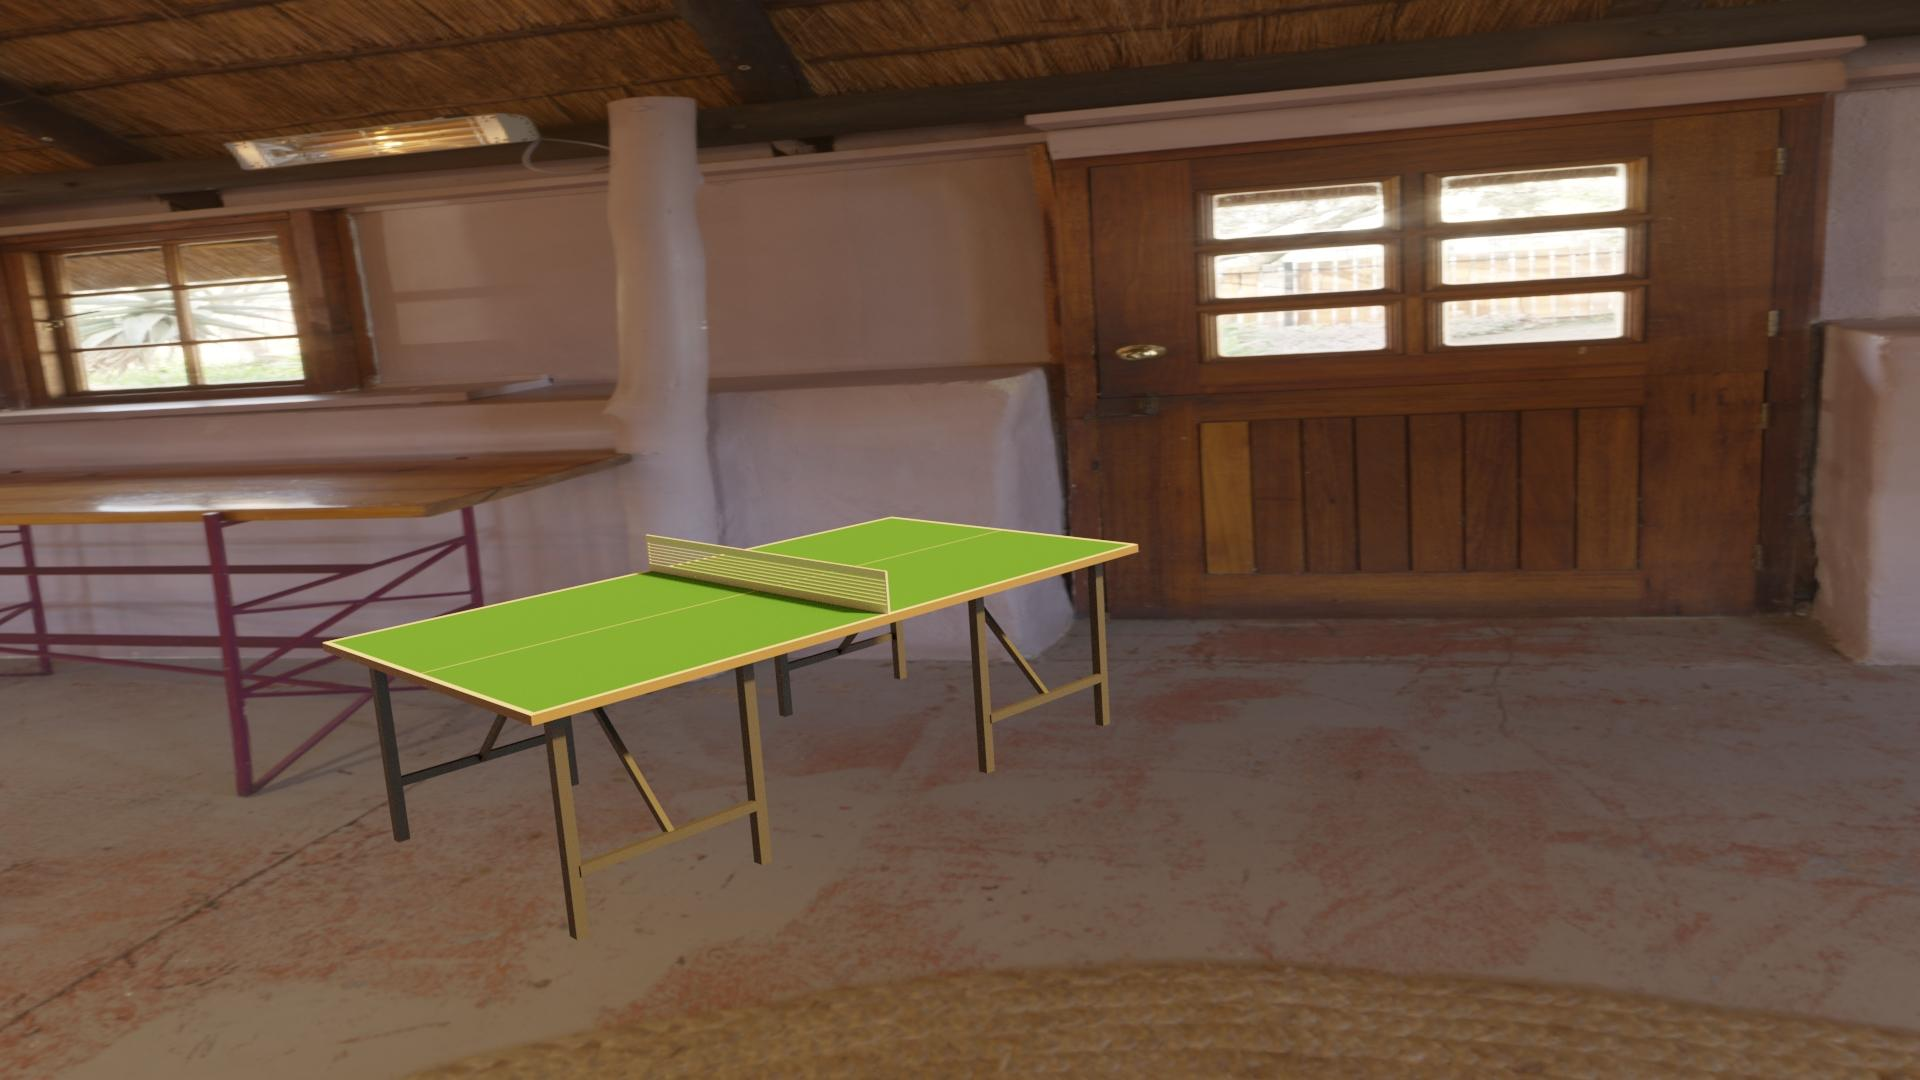table: (331, 518, 1131, 712)
